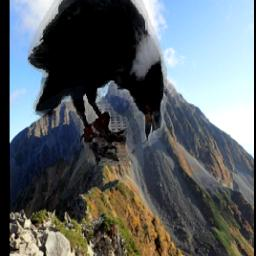Crow: (28, 0, 167, 166)
